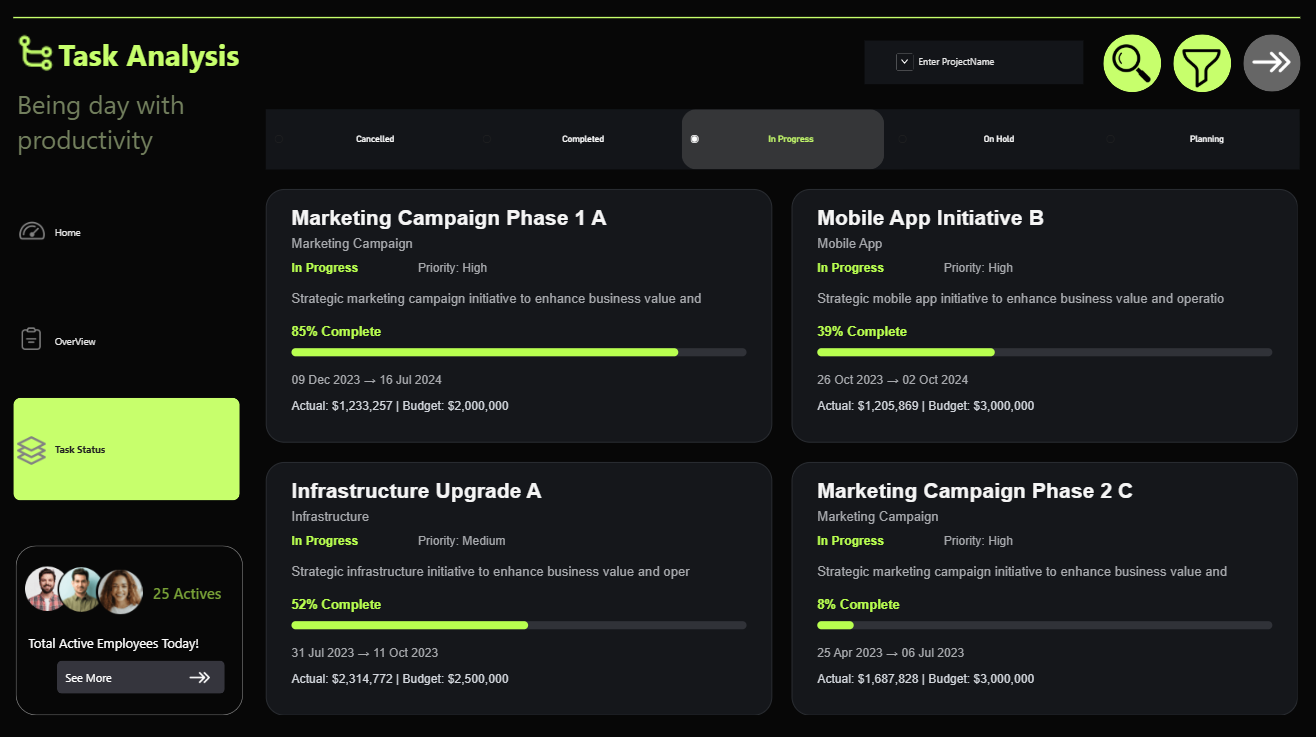

This screenshot's page, from the dashboard's own definition file:
{"tool":"powerbi","page":{"name":"Task Status","canvas":[1920,1080],"ordinal":2},"visuals":[{"type":"pageNavigator","box":[23,265,329,465.8],"z":0},{"type":"image","box":[31.2,297,40,80],"z":0,"group":"g2"},{"type":"textbox","box":[28.1,128.6,327.1,134.9],"z":1000},{"type":"shape","box":[27.7,792.9,329,245.8],"z":2000},{"type":"image","box":[31.3,455.8,37.6,75.1],"z":3000,"group":"g2"},{"type":"shape","box":[86.9,959.3,242.9,48.2],"z":3000},{"type":"image","box":[279.1,968.5,29.6,31.4],"z":4000},{"type":"image","box":[29.5,620.6,41.7,68.9],"z":5000,"group":"g2"},{"type":"group","id":"g1","title":"Group 4","box":[25.9,796.3,321.9,227.3],"z":5000},{"type":"image","box":[27.7,46.2,60,65],"z":6000},{"type":"group","id":"g2","title":"Group 1","box":[29.5,297,41.7,392.5],"z":7000},{"type":"textbox","box":[89.3,52.2,313,71],"z":8000},{"type":"shape","box":[1804.2,52.5,83.2,83.2],"z":9000},{"type":"shape","box":[1601.5,52.5,84,84],"z":10000},{"type":"image","box":[25.9,796.3,197.2,116.5],"z":10000,"group":"g1"},{"type":"shape","box":[1702.9,52.5,84,84],"z":11000},{"type":"textbox","box":[44.9,920.4,302.8,103.2],"z":11000,"group":"g1"},{"type":"image","box":[1612.4,67,60,55],"z":12000},{"type":"image","box":[1713.7,74.2,60,55],"z":13000},{"type":"image","box":[1815.1,65.1,60,55],"z":14000},{"type":"cardVisual","fields":{"Data":["_Measures.Active_Employee_Label"]},"box":[210,823.4,131.2,75.8],"z":14000,"group":"g1"},{"type":"textSlicer","fields":{"Values":["Projects.ProjectName"]},"box":[1255.9,61.5,316.7,63.3],"z":15000},{"type":"image","box":[357,248.2,1530.3,790.2],"z":16000},{"type":"advancedSlicerVisual","fields":{"Values":["Projects.Status"]},"box":[389.7,161.1,1497,87.1],"z":17000},{"type":"shape","box":[23.9,0,1863.4,56.6],"z":18000}]}

Visuals, with their boxes in screenshot pixels (x1, y1, x2, y2), scaled from the page's 1920x1080 canvas onto the 1316x737 screenshot:
pageNavigator: bbox=[16, 181, 241, 499]
image: bbox=[21, 203, 49, 257]
textbox: bbox=[19, 88, 243, 180]
shape: bbox=[19, 541, 244, 709]
image: bbox=[21, 311, 47, 362]
shape: bbox=[60, 655, 226, 688]
image: bbox=[191, 661, 212, 682]
image: bbox=[20, 424, 49, 471]
"Group 4" group: bbox=[18, 543, 238, 699]
image: bbox=[19, 32, 60, 76]
"Group 1" group: bbox=[20, 203, 49, 471]
textbox: bbox=[61, 36, 276, 84]
shape: bbox=[1237, 36, 1294, 93]
shape: bbox=[1098, 36, 1155, 93]
image: bbox=[18, 543, 153, 623]
shape: bbox=[1167, 36, 1225, 93]
textbox: bbox=[31, 628, 238, 699]
image: bbox=[1105, 46, 1146, 83]
image: bbox=[1175, 51, 1216, 88]
image: bbox=[1244, 44, 1285, 82]
cardVisual - _Measures.Active_Employee_Label: bbox=[144, 562, 234, 614]
textSlicer - Projects.ProjectName: bbox=[861, 42, 1078, 85]
image: bbox=[245, 169, 1294, 709]
advancedSlicerVisual - Projects.Status: bbox=[267, 110, 1293, 169]
shape: bbox=[16, 0, 1294, 39]
